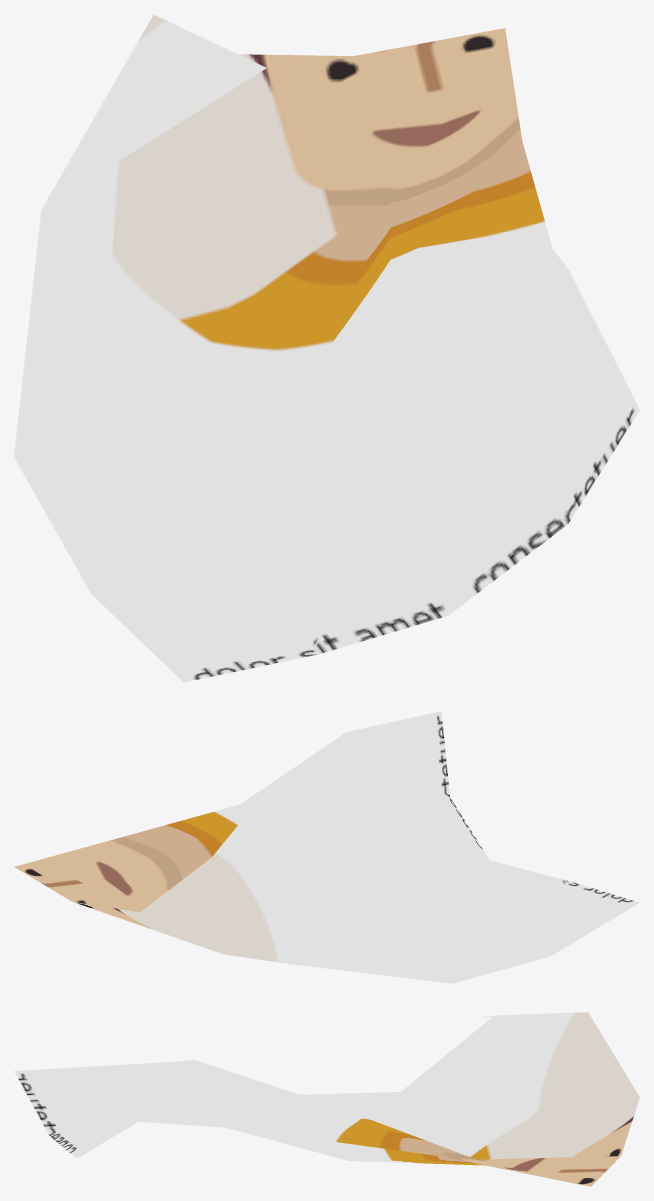
3 views of the same model, one above another, from view 1: azimuth 30°, elevation 25°; view 2: azimuth 150°, elevation 25°; view 3: azimuth 270°, elevation 25° (orthographic). The views are drawn at different scales.
Visible parts, largest first — view 1: Plane.007; view 2: Plane.007; view 3: Plane.007.
Boxes of the visible parts, left/top/right/bottom form: Plane.007: left=14, top=14, right=639, bottom=682; Plane.007: left=14, top=711, right=639, bottom=983; Plane.007: left=14, top=1012, right=639, bottom=1186.
Bounding box in the file's own units: 0.5388 × 0.2134 × 0.6323.
Materials: 1 (1 with a texture image).
